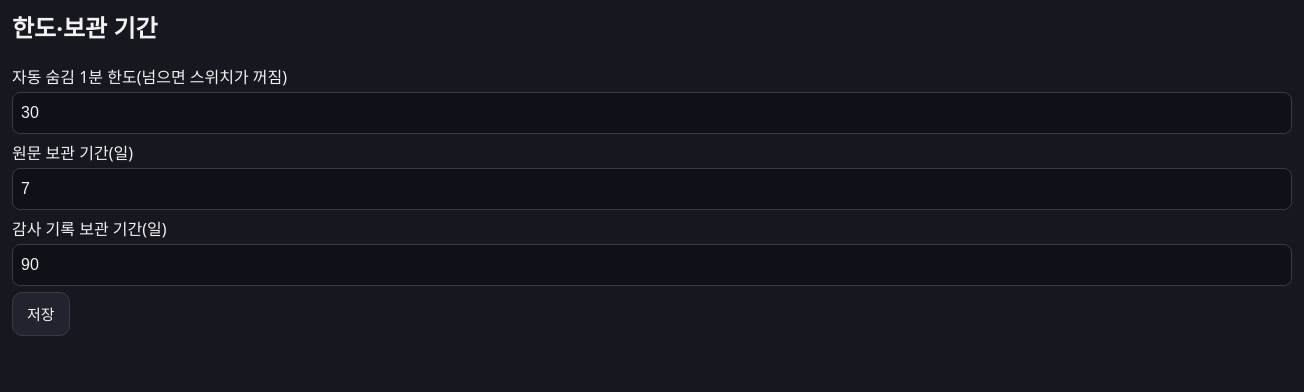
LimitsSection 검증 › 값이 이면 보내지 않고 항목 이름과 범위를 알린다(비움)
Clear the number field labelled "원문 보관 기간(일)" at (652, 189), box [12,168,1292,210]
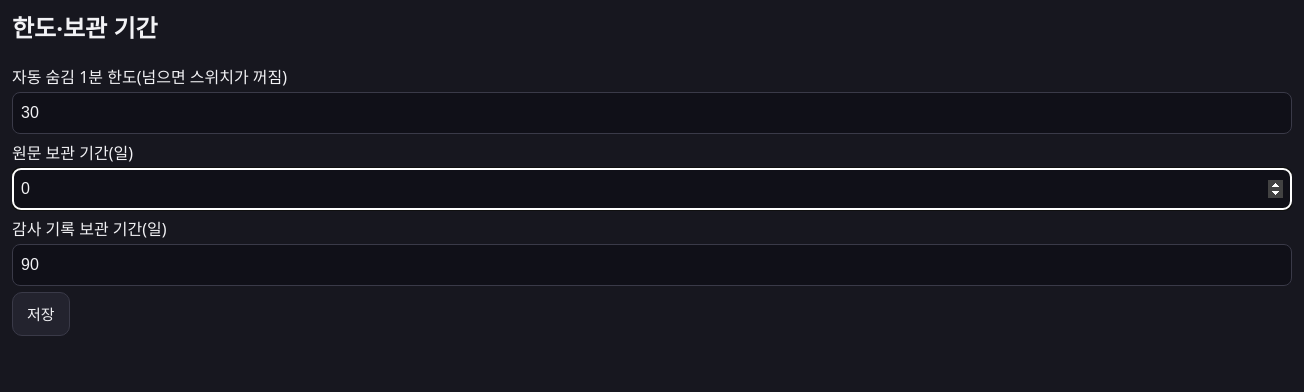
Click the button "저장" at (41, 314), box [12,292,70,336]
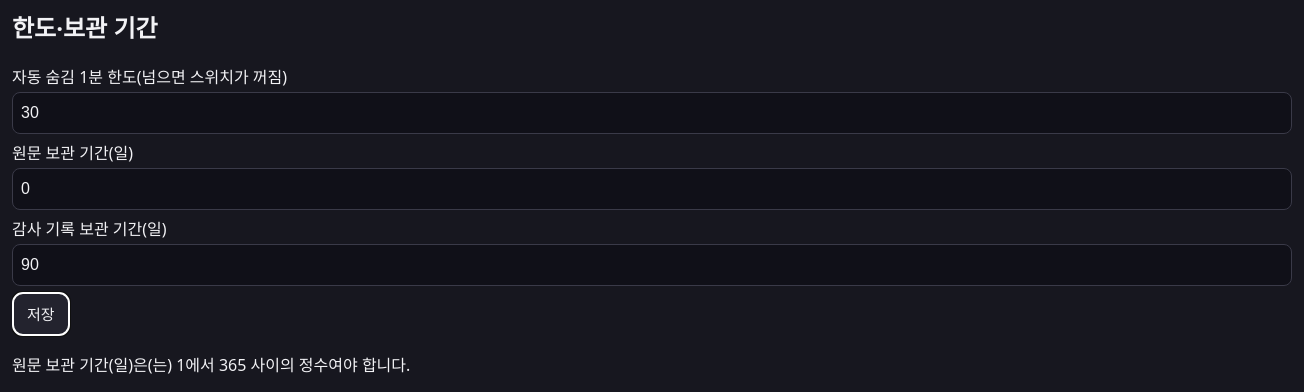
Result: the message shows "원문 보관 기간(일)은(는) 1에서 365 사이의 정수" at [12,354,410,376]
